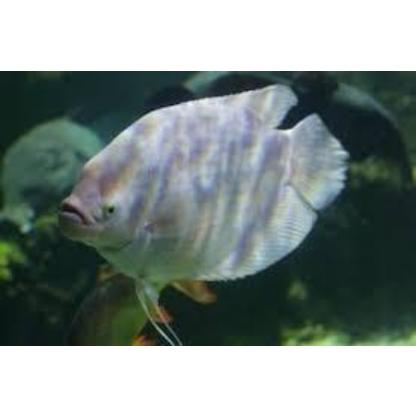gurame: (59, 92, 353, 292)
